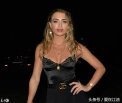female: (45, 10, 77, 48)
